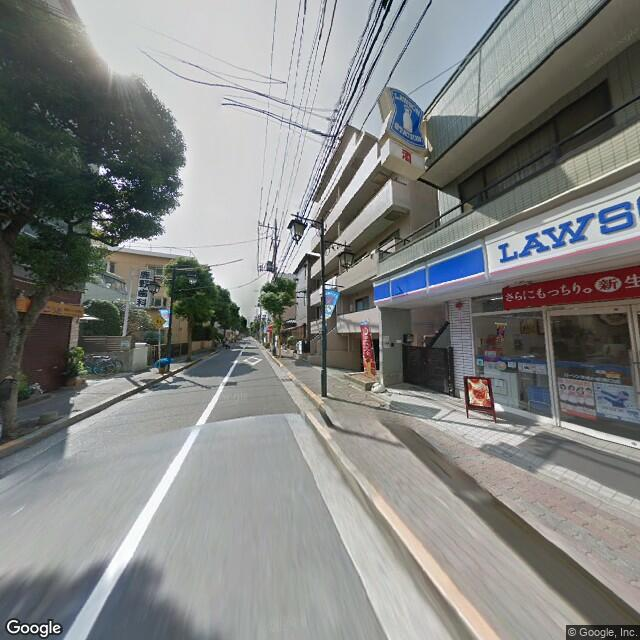lawson: (372, 176, 638, 307), (387, 84, 427, 151)
